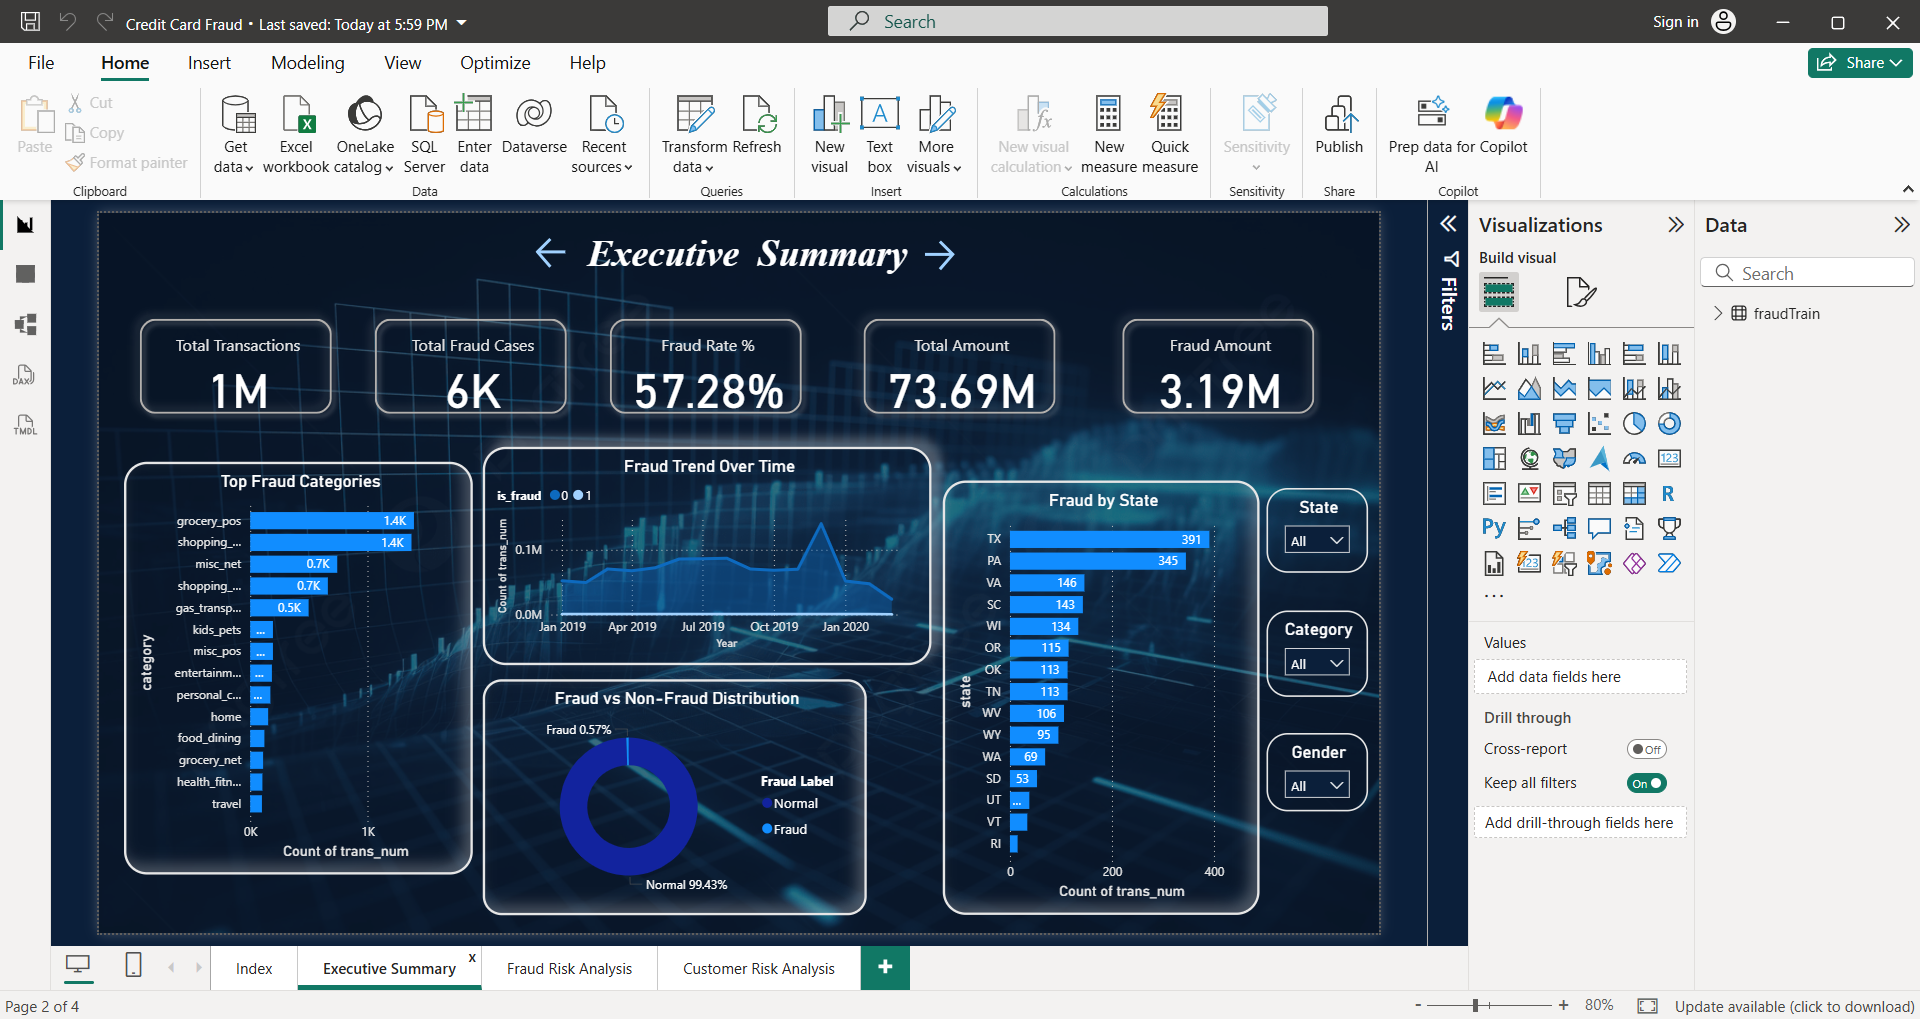

The page's visual inventory and layout, read from the dashboard file:
{"tool":"powerbi","page":{"name":"Executive  Summary","canvas":[1280,720],"ordinal":1},"visuals":[{"type":"cardVisual","fields":{"Data":["fraudTrain.Total Transactions"]},"box":[20.6,85.1,234.6,137.2],"z":0},{"type":"textbox","box":[264.8,13.7,767.1,54.9],"z":1000},{"type":"cardVisual","fields":{"Data":["fraudTrain.Total Fraud Cases"]},"box":[255.2,85.1,234.6,137.2],"z":2000},{"type":"cardVisual","fields":{"Data":["fraudTrain.Fraud Rate %","select"]},"box":[489.9,85.1,234.6,137.2],"z":3000},{"type":"cardVisual","fields":{"Data":["fraudTrain.Total Amount"]},"box":[743.7,85.1,234.6,137.2],"z":4000},{"type":"cardVisual","fields":{"Data":["fraudTrain.Fraud Amount"]},"box":[1003.1,85.1,234.6,137.2],"z":5000},{"type":"donutChart","title":"Fraud vs Non-Fraud Distribution","fields":{"Category":["fraudTrain.Fraud Label"],"Y":["CountNonNull(fraudTrain.trans_num)"]},"box":[383.8,466.2,383.8,236.2],"z":6000},{"type":"lineChart","title":"Fraud Trend Over Time","fields":{"Category":["fraudTrain.trans_date_trans_time.Variation.Date Hierarchy.Year","fraudTrain.trans_date_trans_time.Variation.Date Hierarchy.Quarter","fraudTrain.trans_date_trans_time.Variation.Date Hierarchy.Month","fraudTrain.trans_date_trans_time.Variation.Date Hierarchy.Day"],"Y":["CountNonNull(fraudTrain.trans_num)"],"Series":["fraudTrain.is_fraud"]},"box":[384.2,233.3,467.9,218.2],"z":7000},{"type":"clusteredBarChart","title":"Top Fraud Categories","fields":{"Category":["fraudTrain.category"],"Y":["CountNonNull(fraudTrain.trans_num)"]},"box":[25,248.8,348.8,382.5],"z":8000},{"type":"clusteredBarChart","title":"Fraud by State","fields":{"Category":["fraudTrain.state"],"Y":["CountNonNull(fraudTrain.trans_num)"]},"box":[844.3,267.1,317.1,434.3],"z":9000},{"type":"slicer","title":"State","fields":{"Values":["fraudTrain.state"]},"box":[1160.9,274.4,112.5,85.1],"z":10000},{"type":"slicer","title":"Category","fields":{"Values":["fraudTrain.category"]},"box":[1160.9,397.9,112.5,86.4],"z":11000},{"type":"slicer","title":"Gender","fields":{"Values":["fraudTrain.gender"]},"box":[1160.9,516,112.5,78.2],"z":12000},{"type":"actionButton","box":[1217.2,13.7,48,39.8],"z":13000}]}

Visuals, with their boxes on the page's 1280x720 design canvas (x1, y1, x2, y2). These are canvas units, not pixel positions in the 1920x1019 screenshot, which may show the page scaled, cropped or inside an application window:
cardVisual - fraudTrain.Total Transactions: (x1=21, y1=85, x2=255, y2=222)
textbox: (x1=265, y1=14, x2=1032, y2=69)
cardVisual - fraudTrain.Total Fraud Cases: (x1=255, y1=85, x2=490, y2=222)
cardVisual - fraudTrain.Fraud Rate % x select: (x1=490, y1=85, x2=724, y2=222)
cardVisual - fraudTrain.Total Amount: (x1=744, y1=85, x2=978, y2=222)
cardVisual - fraudTrain.Fraud Amount: (x1=1003, y1=85, x2=1238, y2=222)
"Fraud vs Non-Fraud Distribution" donutChart: (x1=384, y1=466, x2=768, y2=702)
"Fraud Trend Over Time" lineChart: (x1=384, y1=233, x2=852, y2=452)
"Top Fraud Categories" clusteredBarChart: (x1=25, y1=249, x2=374, y2=631)
"Fraud by State" clusteredBarChart: (x1=844, y1=267, x2=1161, y2=701)
"State" slicer: (x1=1161, y1=274, x2=1273, y2=360)
"Category" slicer: (x1=1161, y1=398, x2=1273, y2=484)
"Gender" slicer: (x1=1161, y1=516, x2=1273, y2=594)
actionButton: (x1=1217, y1=14, x2=1265, y2=54)
